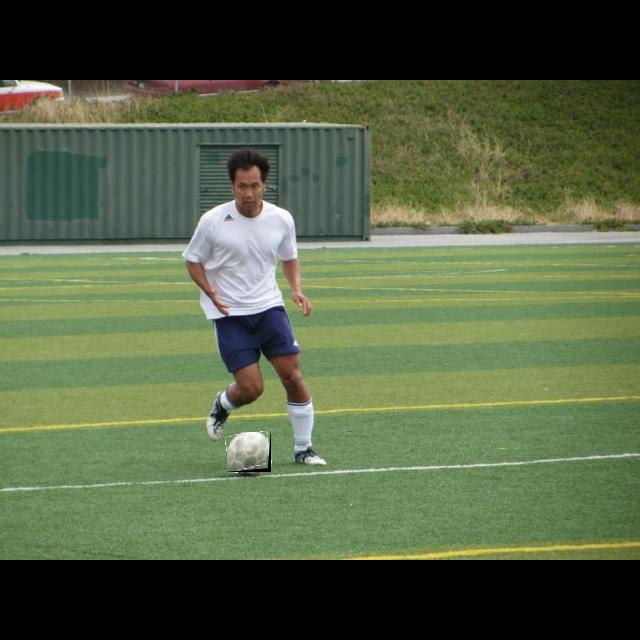Football: (227, 432, 271, 472)
